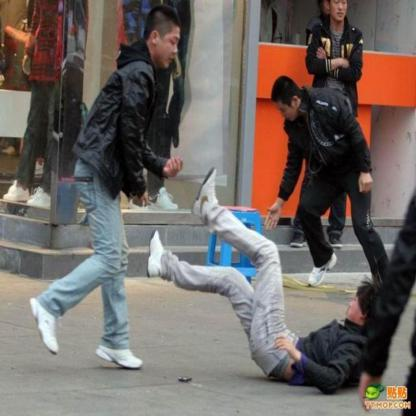face: (158, 29, 181, 68), (348, 293, 366, 323), (276, 101, 299, 122), (332, 1, 348, 21), (324, 1, 338, 16)
